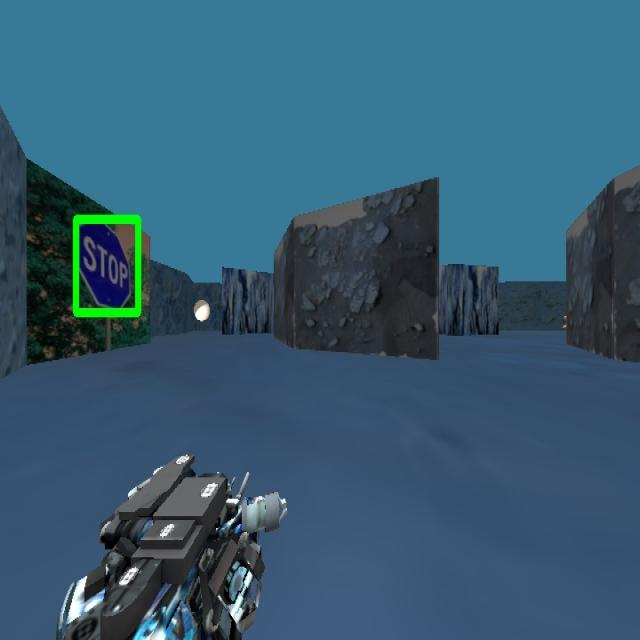Circle: (193, 299, 210, 321)
Stop_Sign: (71, 212, 142, 319)
